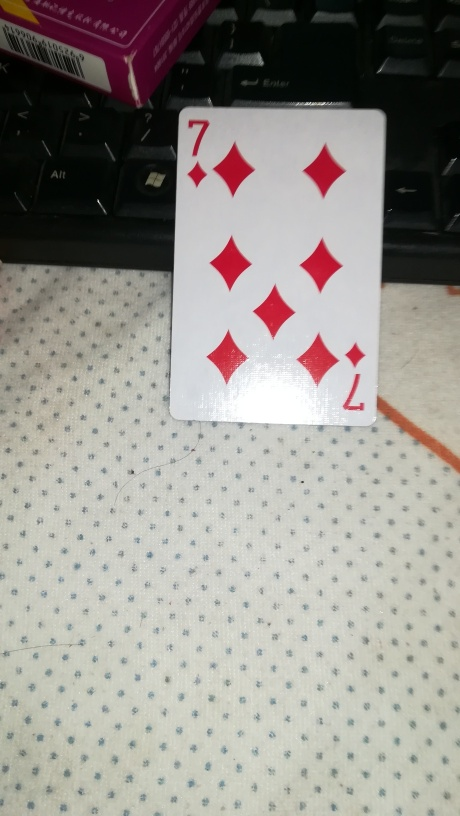fk 7: (165, 100, 390, 429)
